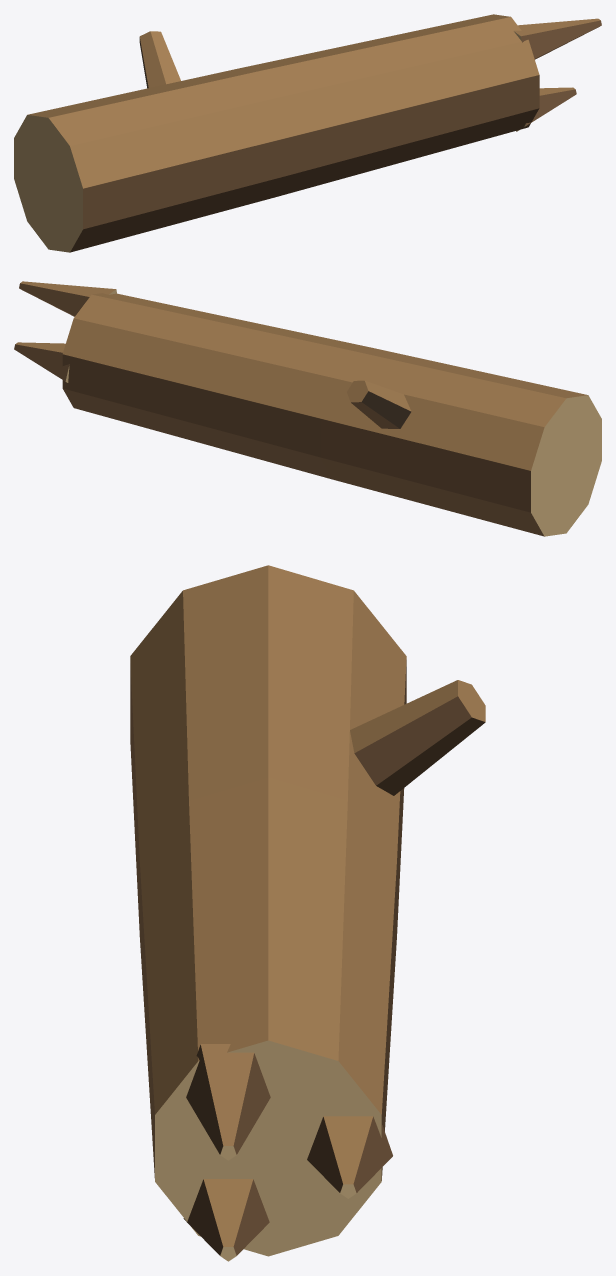
Rendered from TW_PROP_LOG_BROKEN_A_LOD0.glb.
The picture shows the model from 3 angles, top to bottom: view 1: azimuth 30°, elevation 25°; view 2: azimuth 150°, elevation 25°; view 3: azimuth 270°, elevation 25°; orthographic projection. The views are drawn at different scales.
Visible parts, largest first — view 1: TW_PROP_LOG_BROKEN_A_LOD0; view 2: TW_PROP_LOG_BROKEN_A_LOD0; view 3: TW_PROP_LOG_BROKEN_A_LOD0.
Part boxes in pixels (x1,y1,x2,y2): TW_PROP_LOG_BROKEN_A_LOD0: [14, 14, 601, 252]; TW_PROP_LOG_BROKEN_A_LOD0: [14, 281, 601, 536]; TW_PROP_LOG_BROKEN_A_LOD0: [130, 565, 485, 1261].
Size of the model in its own units: 1.72 by 0.4473 by 0.4894.
Materials: 1 (1 with a texture image).
